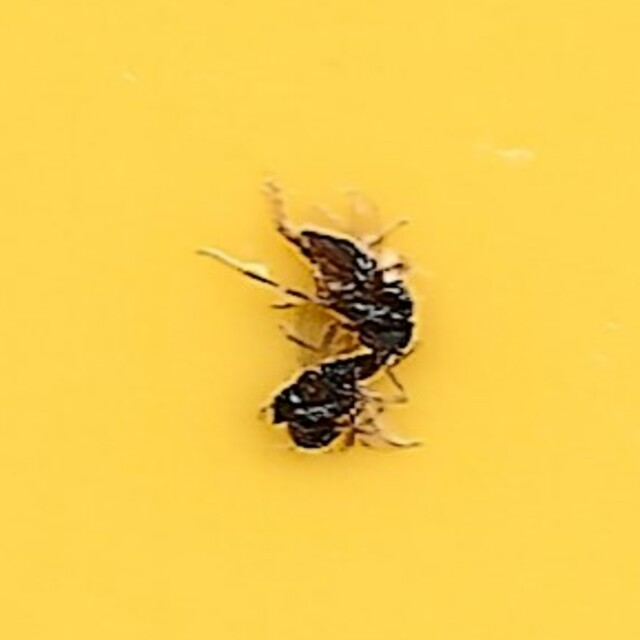Brachycera: (221, 188, 419, 371)
Coleoptera: (261, 360, 363, 452)
